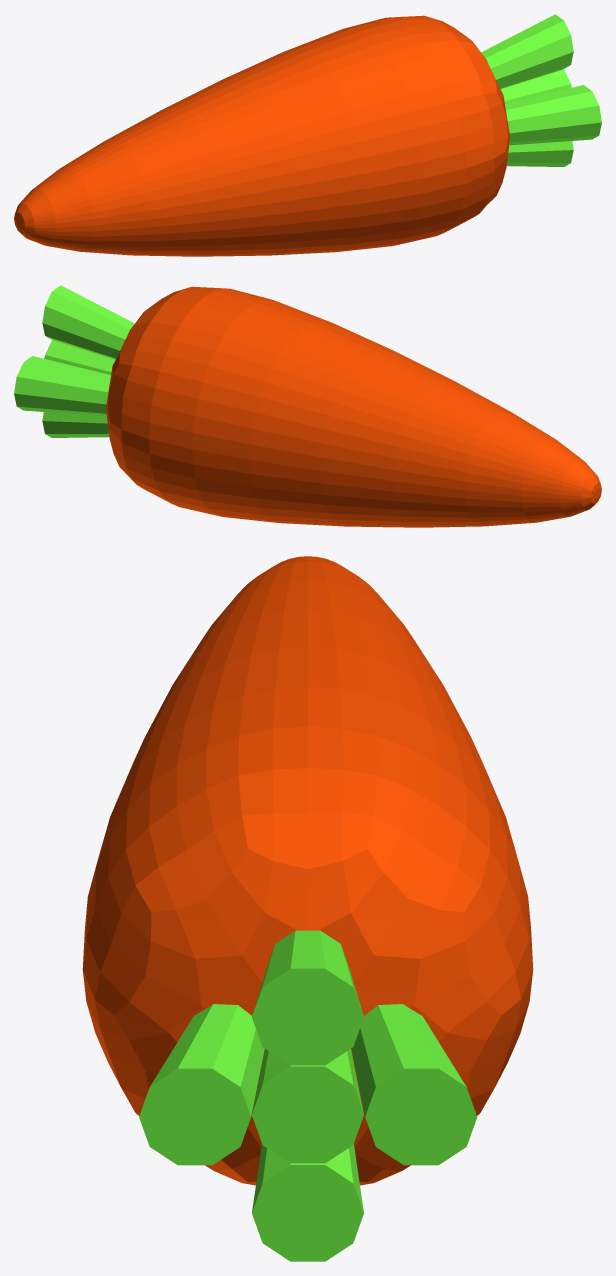
Rendered from havuc.fbx.
3 views of the same model, one above another, from view 1: azimuth 30°, elevation 25°; view 2: azimuth 150°, elevation 25°; view 3: azimuth 270°, elevation 25° (orthographic). The views are drawn at different scales.
Visible parts, largest first — view 1: Cylinder.044; view 2: Cylinder.044; view 3: Cylinder.044.
Part boxes in pixels (box(x1,y1,x2,y2)): Cylinder.044: box(14, 14, 601, 256); Cylinder.044: box(14, 285, 601, 527); Cylinder.044: box(82, 556, 533, 1261).
Size of the model in its own units: 684 by 247 by 245.
